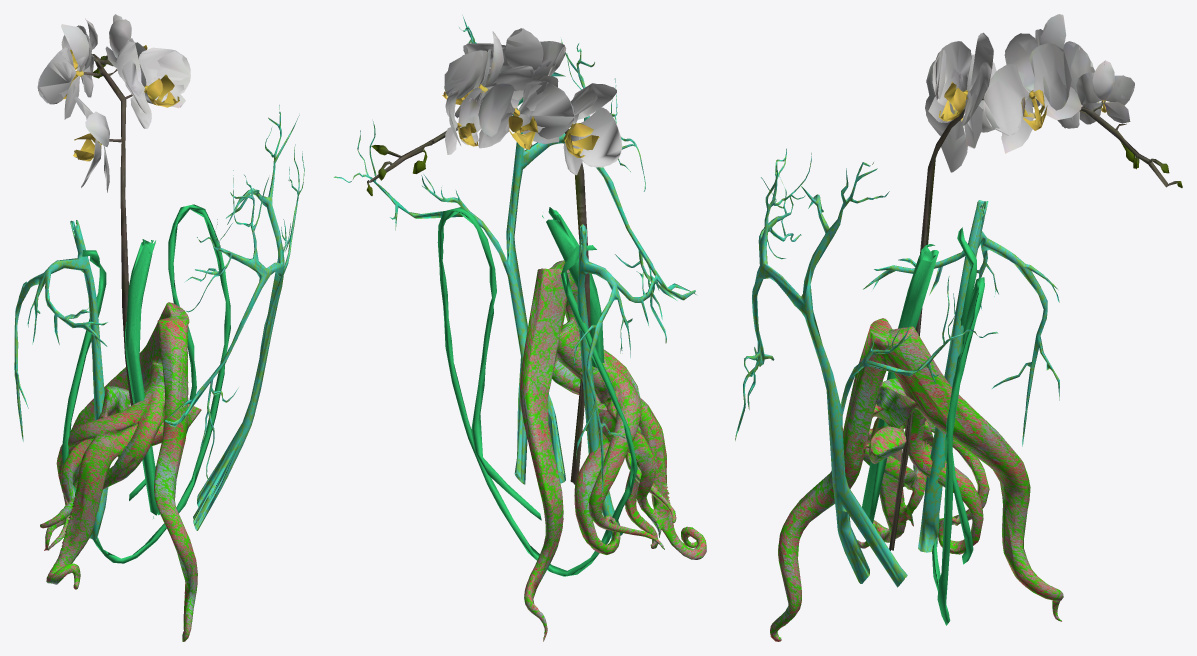
File: lowpolywoldtreevines.glb
3 views of the same model, side by side, from view 1: azimuth 30°, elevation 25°; view 2: azimuth 150°, elevation 25°; view 3: azimuth 270°, elevation 25° (orthographic). The views are drawn at different scales.
Parts seen in each view (by area): view 1: stamen.006, stamen.003, stamen.013, stamen.014, stamen.004, stamen.001; view 2: stamen.006, stamen.003, stamen.013, stamen.014, stamen.004, stamen.001; view 3: stamen.006, stamen.003, stamen.013, stamen.004, stamen.014, stamen.001.
Boxes of the visible parts, x1,y1,x2,y2 form: stamen.006: (40, 302, 201, 641); stamen.003: (37, 14, 190, 405); stamen.013: (165, 105, 304, 530); stamen.014: (61, 204, 230, 563); stamen.004: (14, 220, 109, 540); stamen.001: (125, 239, 159, 518); stamen.006: (519, 260, 706, 641); stamen.003: (366, 28, 622, 484); stamen.013: (333, 15, 696, 484); stamen.014: (437, 207, 637, 576); stamen.004: (571, 224, 659, 538); stamen.001: (542, 207, 605, 405); stamen.006: (770, 318, 1063, 641); stamen.003: (889, 14, 1182, 550); stamen.013: (735, 148, 998, 587); stamen.004: (863, 200, 1059, 552); stamen.014: (932, 227, 984, 625); stamen.001: (862, 244, 938, 523).
Size of the model in its own units: 5.87 by 10.34 by 6.62.
4 materials, 4 textured.
